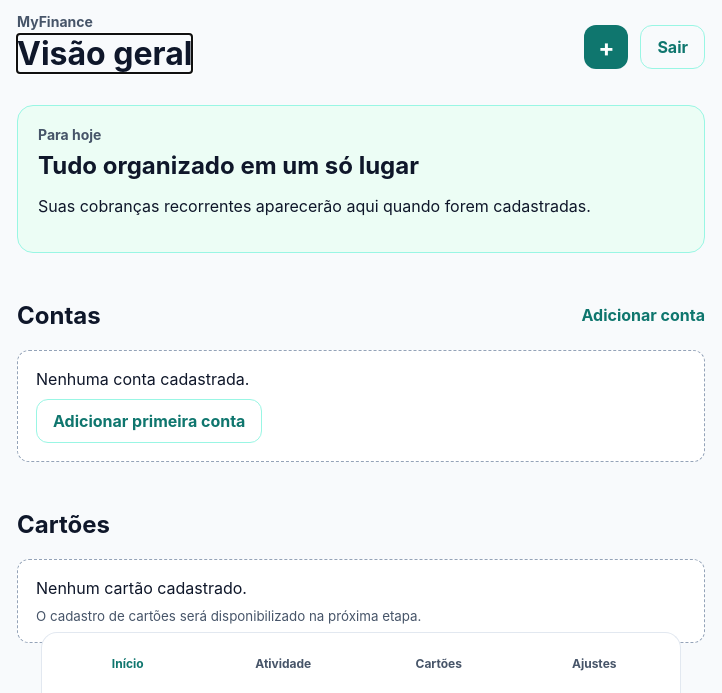
Test case: App › keeps sign-out visible and retryable from settings
Click the button "Ajustes" at (594, 663), box [516, 641, 672, 685]
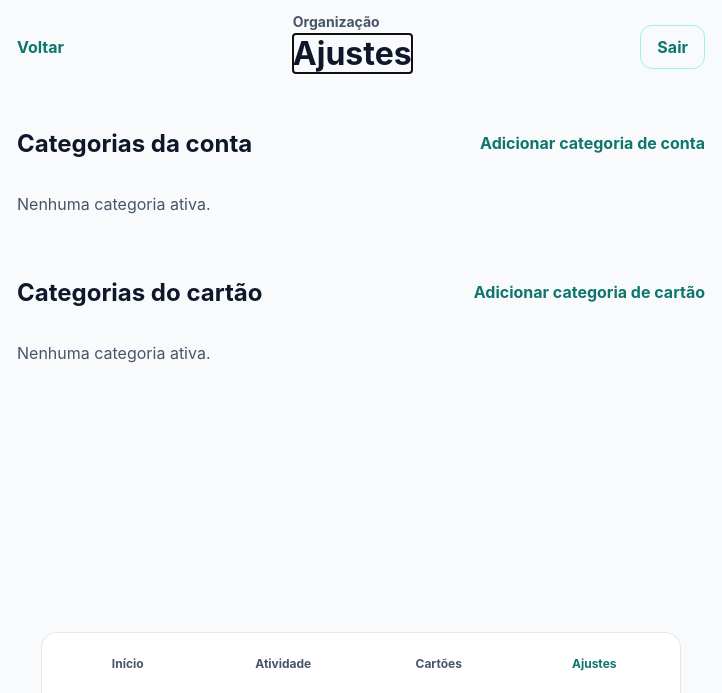
Click the button "Sair" at (673, 47), box [640, 25, 705, 69]
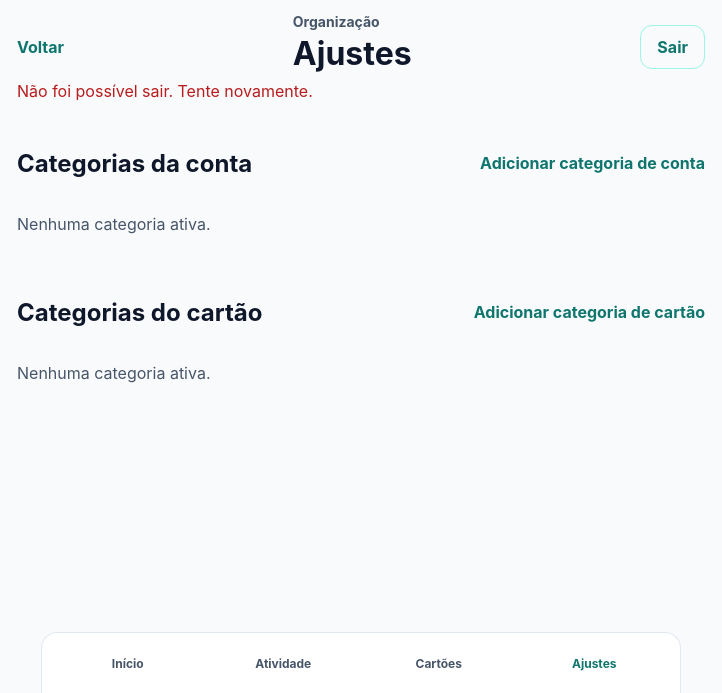
Expected: the heading "Ajustes" is shown, [293, 34, 412, 73]
Expected: the message shows "Não foi possível sair.", [17, 81, 313, 101]
